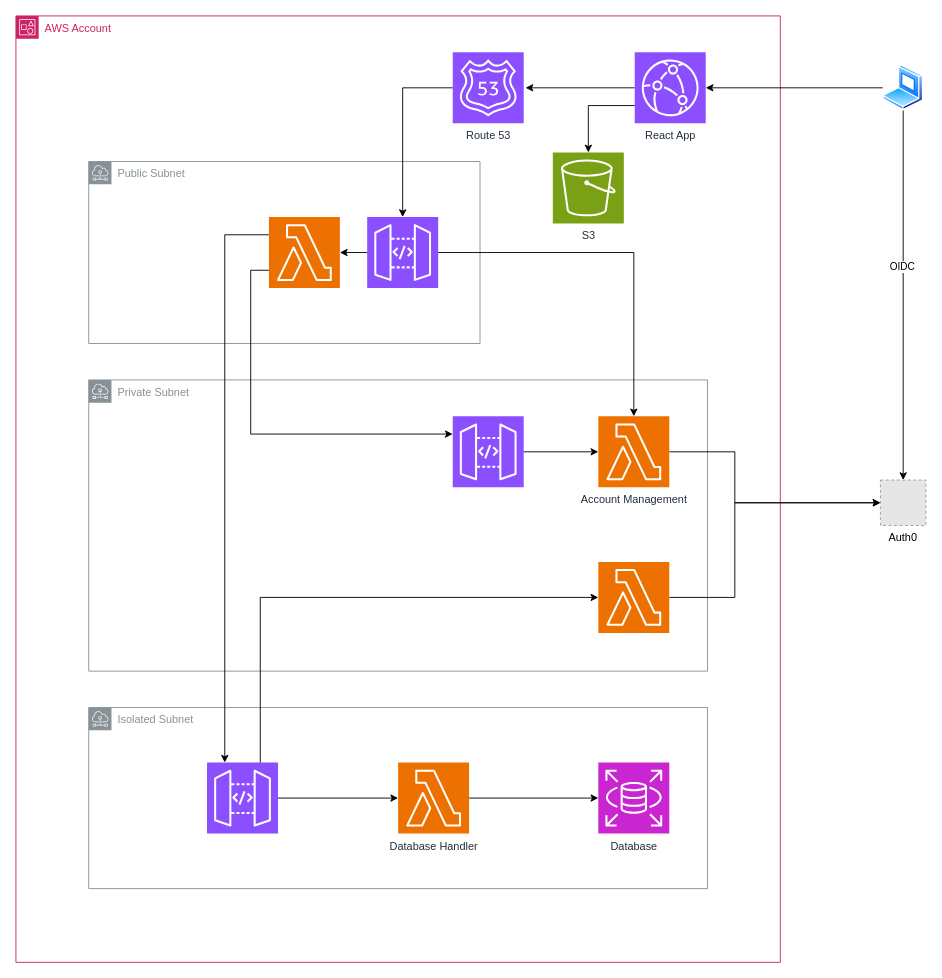
This 942x978 diagram has some shape labels left out. Grey dashed boxes stand in for pictures. Each missing label, with the centre of its shape:
Account API: pixel 488 451
Auth0 Authorizer: pixel 633 597
Manufacturer API: pixel 242 798
MFR BFF: pixel 402 252
MFR BFF Handler: pixel 304 252
